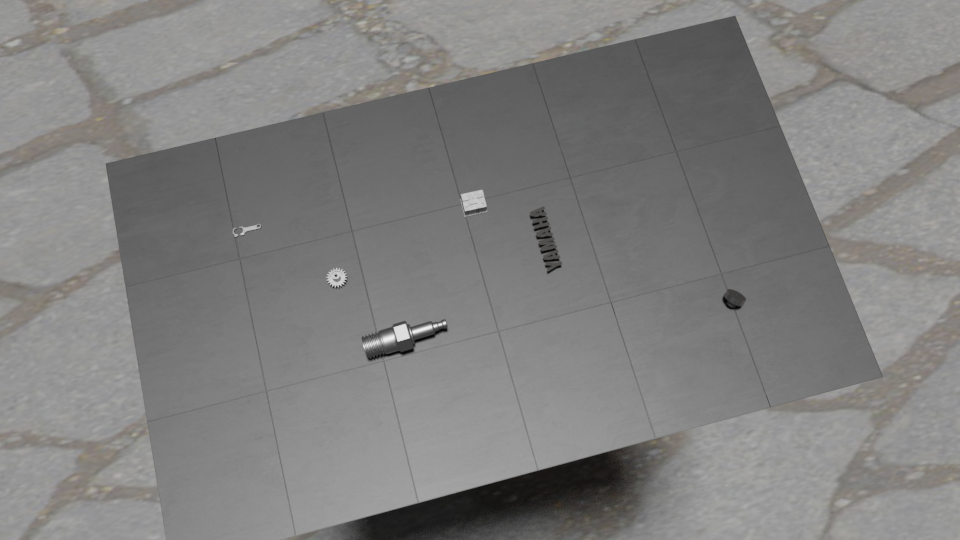yamaha_letters: (529, 205, 562, 272)
